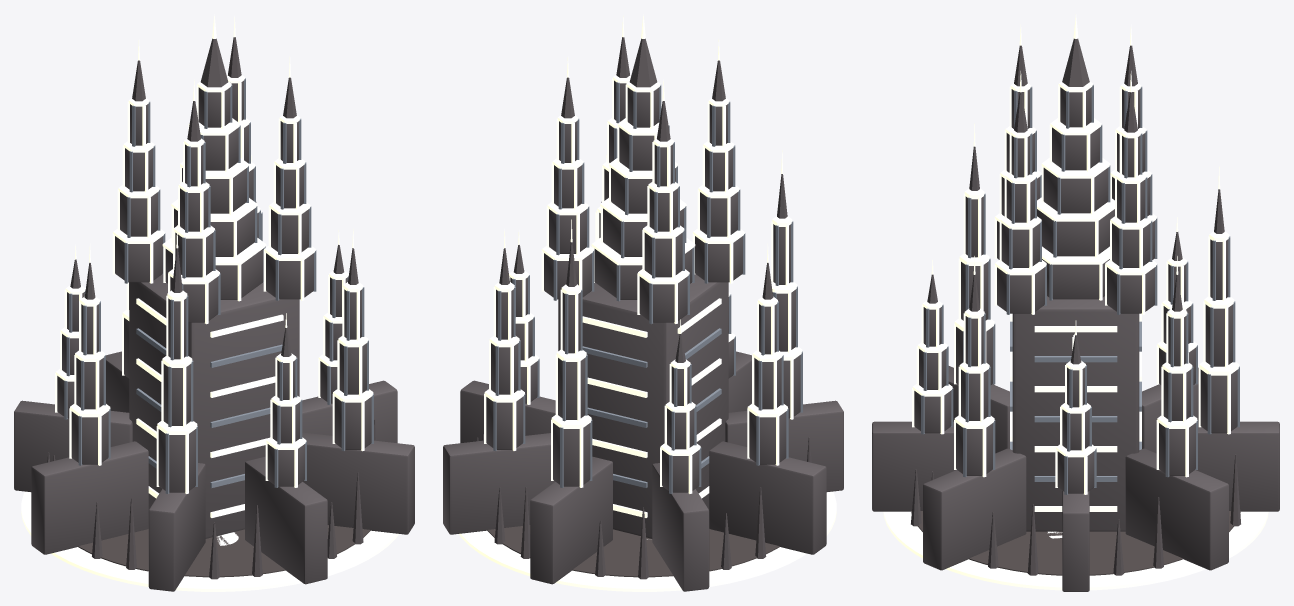
Rendered from Ciudadela.fbx.
3 views of the same model, side by side, from view 1: azimuth 30°, elevation 25°; view 2: azimuth 150°, elevation 25°; view 3: azimuth 270°, elevation 25° (orthographic).
Parts seen in each view (by area): view 1: Ciudadela_Cuerpo, Ciudadela_Luz, Ciudadela_Metal, Ciudadela_Roca; view 2: Ciudadela_Cuerpo, Ciudadela_Luz, Ciudadela_Metal, Ciudadela_Roca; view 3: Ciudadela_Cuerpo, Ciudadela_Luz, Ciudadela_Metal, Ciudadela_Roca.
Boxes of the visible parts, box(x1,y1,x2,y2) form: Ciudadela_Cuerpo: box(14, 37, 414, 591); Ciudadela_Luz: box(21, 14, 398, 591); Ciudadela_Metal: box(64, 78, 373, 493); Ciudadela_Roca: box(78, 525, 370, 577); Ciudadela_Cuerpo: box(443, 37, 843, 591); Ciudadela_Luz: box(459, 14, 836, 591); Ciudadela_Metal: box(493, 82, 802, 493); Ciudadela_Roca: box(487, 525, 779, 577); Ciudadela_Cuerpo: box(872, 38, 1279, 591); Ciudadela_Luz: box(883, 14, 1268, 590); Ciudadela_Metal: box(921, 84, 1239, 494); Ciudadela_Roca: box(911, 511, 1240, 575).
Bounding box in the file's own units: 14800 × 19820 × 14800.
